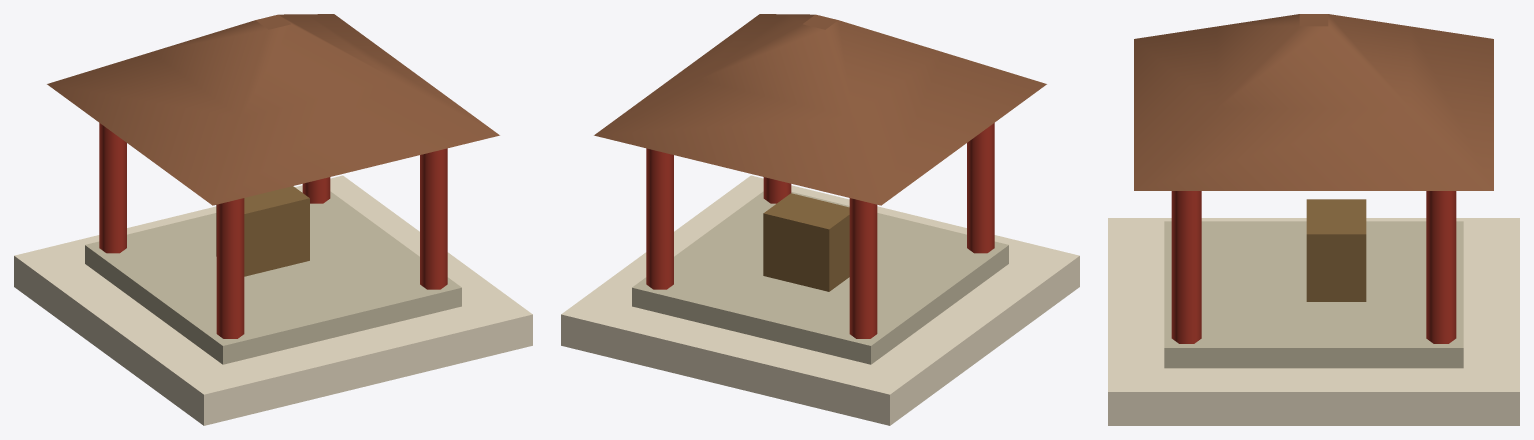
The model's file is jiang_dao_fen_feng.glb.
The picture shows the model from 3 angles, left to right: view 1: azimuth 30°, elevation 25°; view 2: azimuth 150°, elevation 25°; view 3: azimuth 270°, elevation 25°; orthographic projection. The views are drawn at different scales.
Parts seen in each view (by area): view 1: _MeshInstance3D_104, _MeshInstance3D_98, _MeshInstance3D_99, _MeshInstance3D_105, _MeshInstance3D_101, _MeshInstance3D_103, _MeshInstance3D_100, _MeshInstance3D_102; view 2: _MeshInstance3D_104, _MeshInstance3D_98, _MeshInstance3D_99, _MeshInstance3D_105, _MeshInstance3D_100, _MeshInstance3D_102, _MeshInstance3D_101, _MeshInstance3D_103; view 3: _MeshInstance3D_104, _MeshInstance3D_98, _MeshInstance3D_99, _MeshInstance3D_105, _MeshInstance3D_102, _MeshInstance3D_103.
Part boxes in pixels (<box>): _MeshInstance3D_104: <box>47,14,499,205</box>; _MeshInstance3D_98: <box>14,175,532,425</box>; _MeshInstance3D_99: <box>85,191,461,364</box>; _MeshInstance3D_105: <box>216,186,309,276</box>; _MeshInstance3D_101: <box>216,198,244,338</box>; _MeshInstance3D_103: <box>420,148,447,289</box>; _MeshInstance3D_100: <box>99,123,126,253</box>; _MeshInstance3D_102: <box>302,177,330,203</box>; _MeshInstance3D_104: <box>594,14,1046,205</box>; _MeshInstance3D_98: <box>561,175,1079,425</box>; _MeshInstance3D_99: <box>632,191,1008,364</box>; _MeshInstance3D_105: <box>763,193,849,291</box>; _MeshInstance3D_100: <box>849,198,877,338</box>; _MeshInstance3D_102: <box>646,148,673,289</box>; _MeshInstance3D_101: <box>967,123,994,253</box>; _MeshInstance3D_103: <box>763,177,791,203</box>; _MeshInstance3D_104: <box>1134,14,1493,190</box>; _MeshInstance3D_98: <box>1108,218,1519,425</box>; _MeshInstance3D_99: <box>1164,221,1463,368</box>; _MeshInstance3D_105: <box>1306,199,1366,301</box>; _MeshInstance3D_102: <box>1426,191,1456,343</box>; _MeshInstance3D_103: <box>1171,191,1201,343</box>.
Size of the model in its own units: 1.1 by 0.94 by 1.1.
